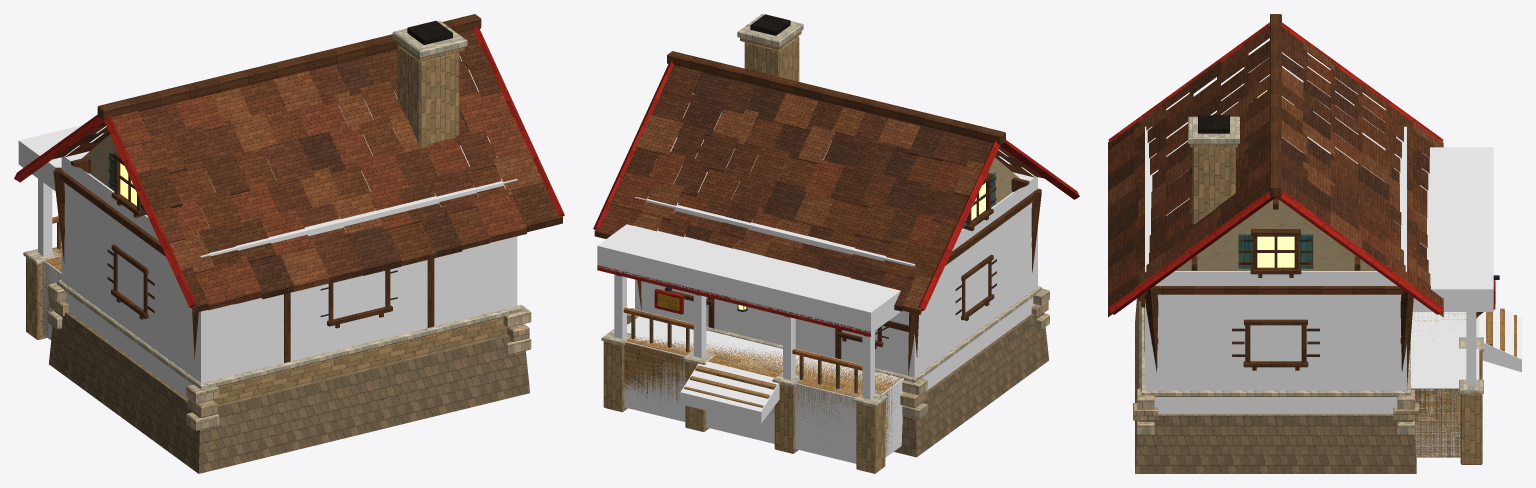
File: outpost_tavern.glb
3 views of the same model, side by side, from view 1: azimuth 30°, elevation 25°; view 2: azimuth 150°, elevation 25°; view 3: azimuth 270°, elevation 25° (orthographic). The views are drawn at different scales.
Visible parts, largest first — view 1: OutpostTavern, col_tavern_body, col_tavern_porch_roof, col_porch_post_-43, col_tavern_porch_floor; view 2: OutpostTavern, col_tavern_body, col_tavern_porch_roof, col_tavern_porch_floor, col_tavern_steps, col_porch_post_15, col_porch_post_-43, col_porch_post_43, col_porch_post_-15; view 3: OutpostTavern, col_tavern_body, col_tavern_porch_roof, col_tavern_porch_floor, col_tavern_steps, col_porch_post_43.
Part boxes in pixels (bbox=[...]): OutpostTavern: bbox=[14, 14, 564, 473]; col_tavern_body: bbox=[61, 90, 517, 398]; col_tavern_porch_roof: bbox=[18, 125, 106, 190]; col_porch_post_-43: bbox=[38, 179, 52, 255]; col_tavern_porch_floor: bbox=[42, 247, 61, 340]; OutpostTavern: bbox=[593, 14, 1079, 473]; col_tavern_body: bbox=[635, 141, 1037, 390]; col_tavern_porch_roof: bbox=[597, 223, 900, 333]; col_tavern_porch_floor: bbox=[624, 316, 904, 463]; col_tavern_steps: bbox=[680, 362, 779, 423]; col_porch_post_15: bbox=[693, 294, 706, 358]; col_porch_post_-43: bbox=[862, 331, 874, 399]; col_porch_post_43: bbox=[614, 274, 626, 338]; col_porch_post_-15: bbox=[783, 315, 795, 379]; OutpostTavern: bbox=[1108, 14, 1516, 473]; col_tavern_body: bbox=[1145, 126, 1406, 414]; col_tavern_porch_roof: bbox=[1412, 147, 1493, 311]; col_tavern_porch_floor: bbox=[1411, 312, 1479, 457]; col_tavern_steps: bbox=[1479, 306, 1521, 372]; col_porch_post_43: bbox=[1466, 312, 1476, 385].
Size of the model in its own units: 11.6 by 10.15 by 11.69.
10 materials, 7 textured.
